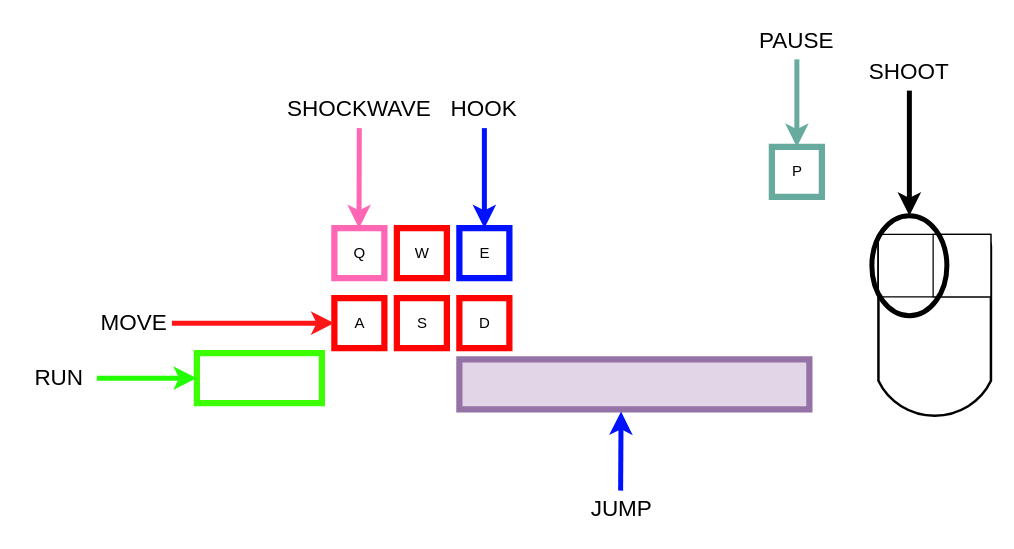
Image size: 1014x549. Some labels were removed from this diagram. Each missing label, with the box of its shape:
SHIFT: (193, 349, 324, 406)
SPACE: (456, 356, 812, 412)
